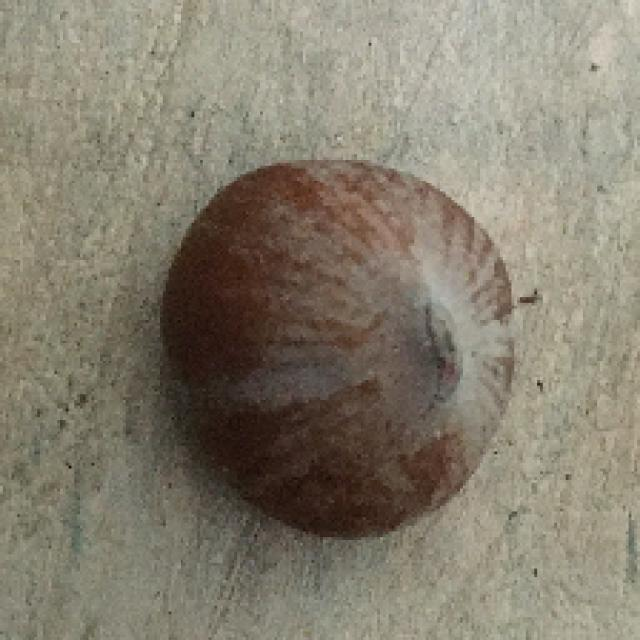QualityHazelnut: (160, 160, 522, 539)
